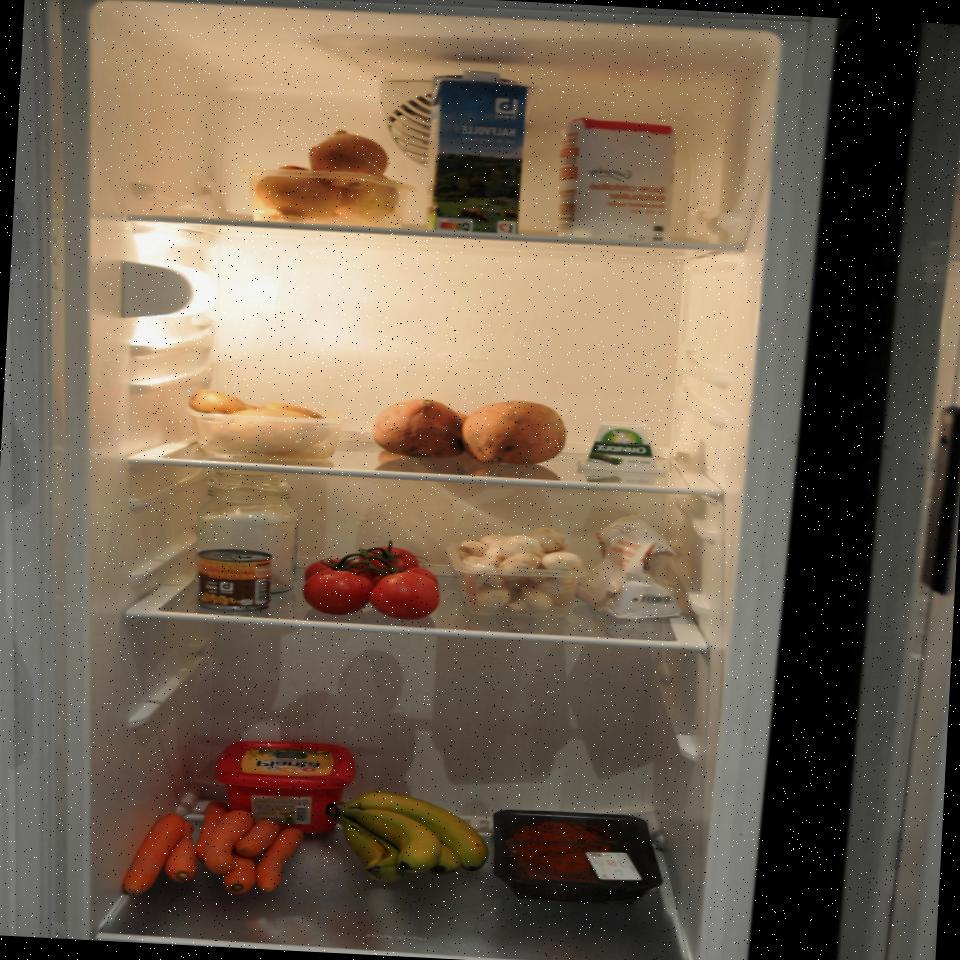Leche: (420, 64, 532, 239)
Mantequilla: (210, 736, 362, 840)
Plátano: (318, 787, 490, 890)
Tomate: (294, 538, 445, 621)
Zanahoria: (114, 792, 316, 911)
